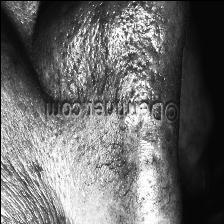Potentially Malignant Skin Tumors: (124, 104, 140, 125)
